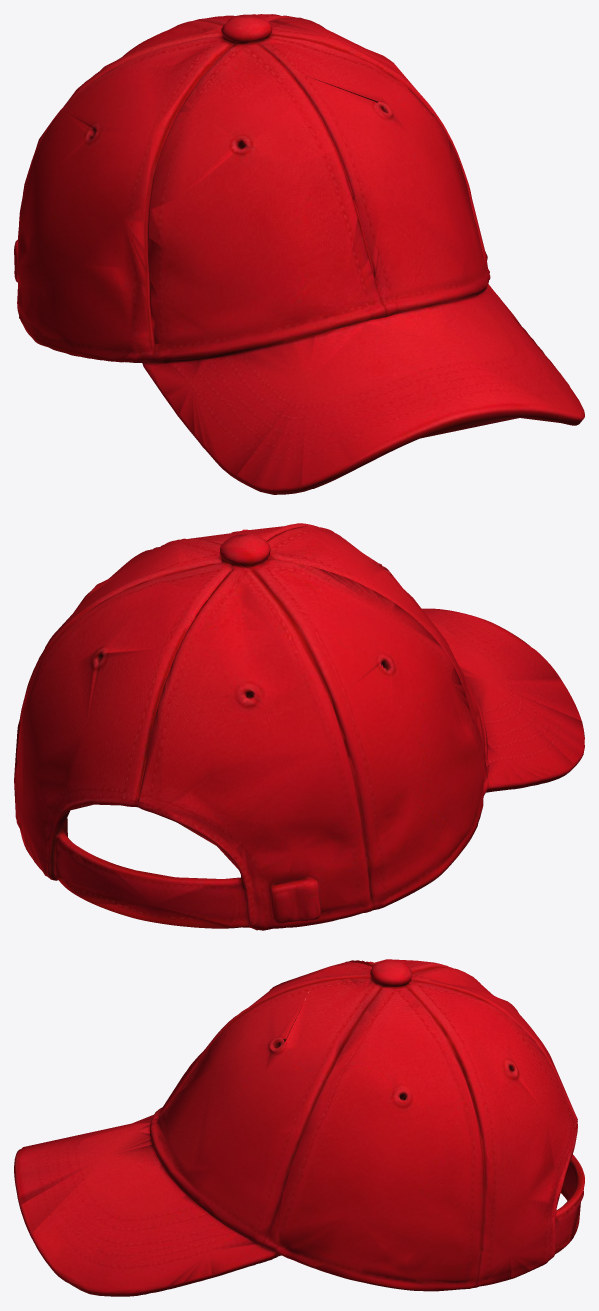
Rendered from red_cap.glb.
The picture shows the model from 3 angles, top to bottom: view 1: azimuth 30°, elevation 25°; view 2: azimuth 150°, elevation 25°; view 3: azimuth 270°, elevation 25°; orthographic projection. The views are drawn at different scales.
Size of the model in its own units: 0.324 by 0.2365 by 0.4598.
1 material, 1 textured.
